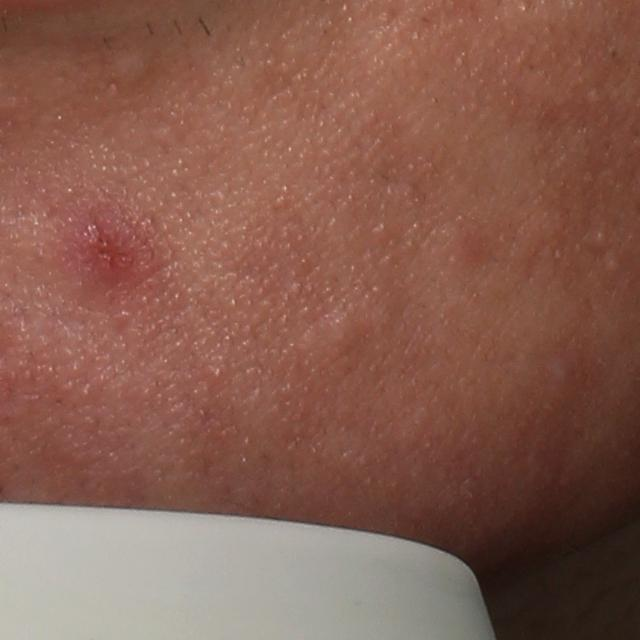comedo: (309, 304, 359, 361)
hypertrophic_scar: (108, 44, 157, 87)
papule: (76, 217, 123, 272)
